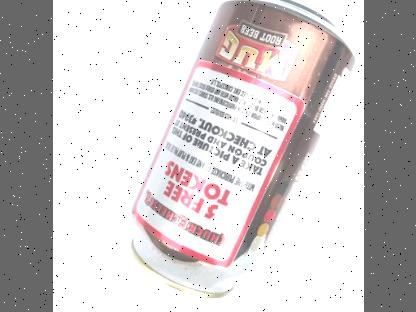Can: (129, 0, 356, 298)
